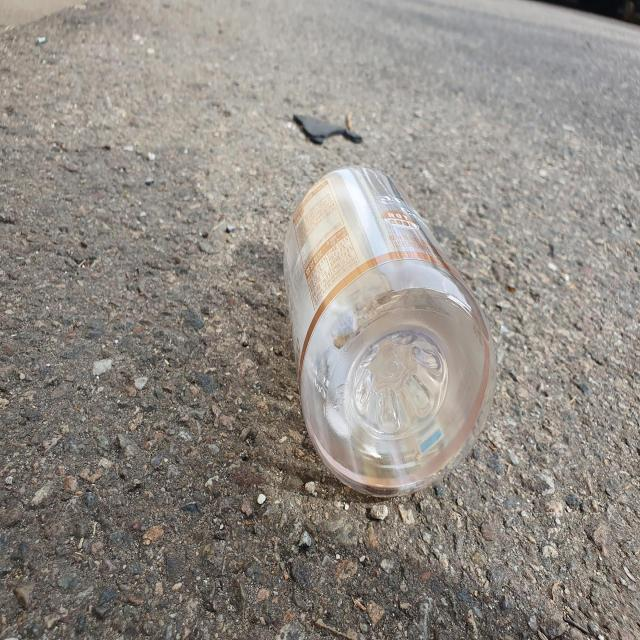plastic: (284, 165, 497, 497)
